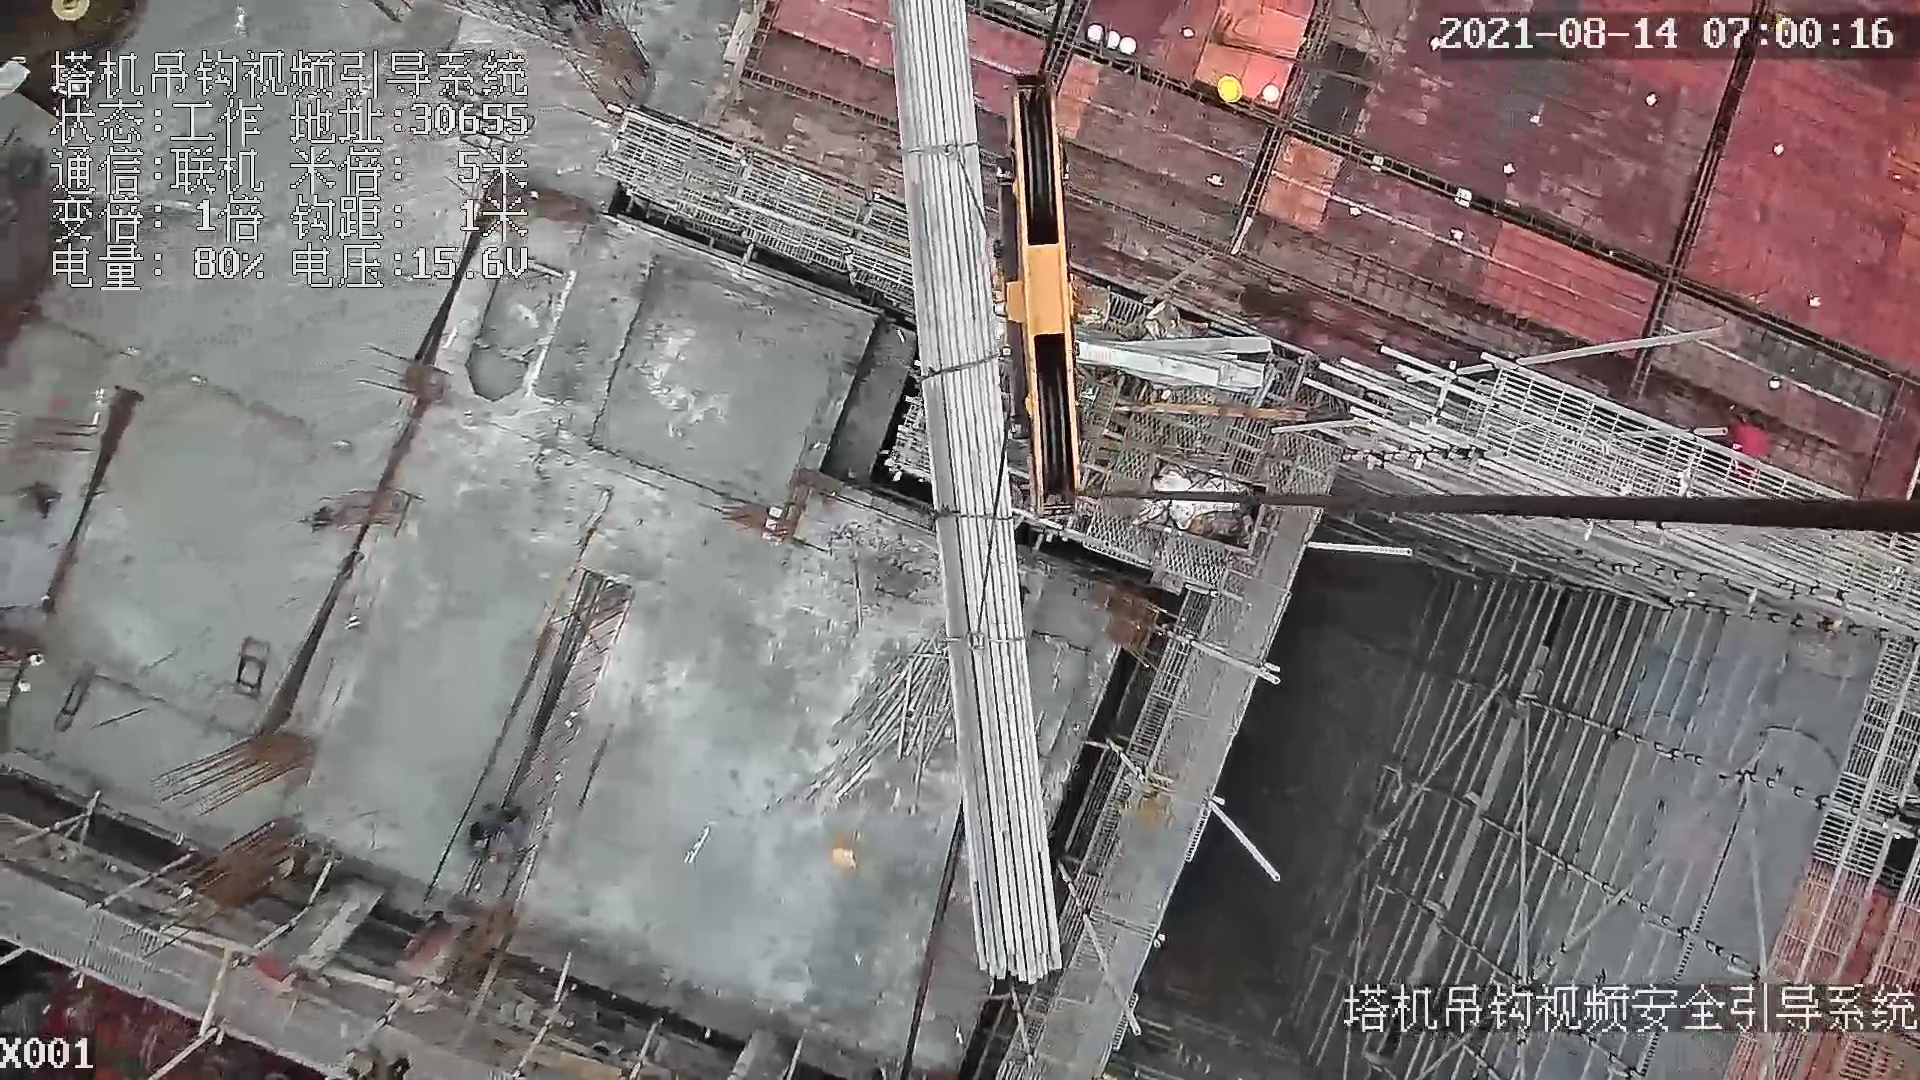helmet: (1216, 76, 1242, 103)
hook: (985, 65, 1094, 531)
person: (468, 804, 534, 865), (1731, 395, 1772, 463)
rebar: (886, 1, 1063, 987)
